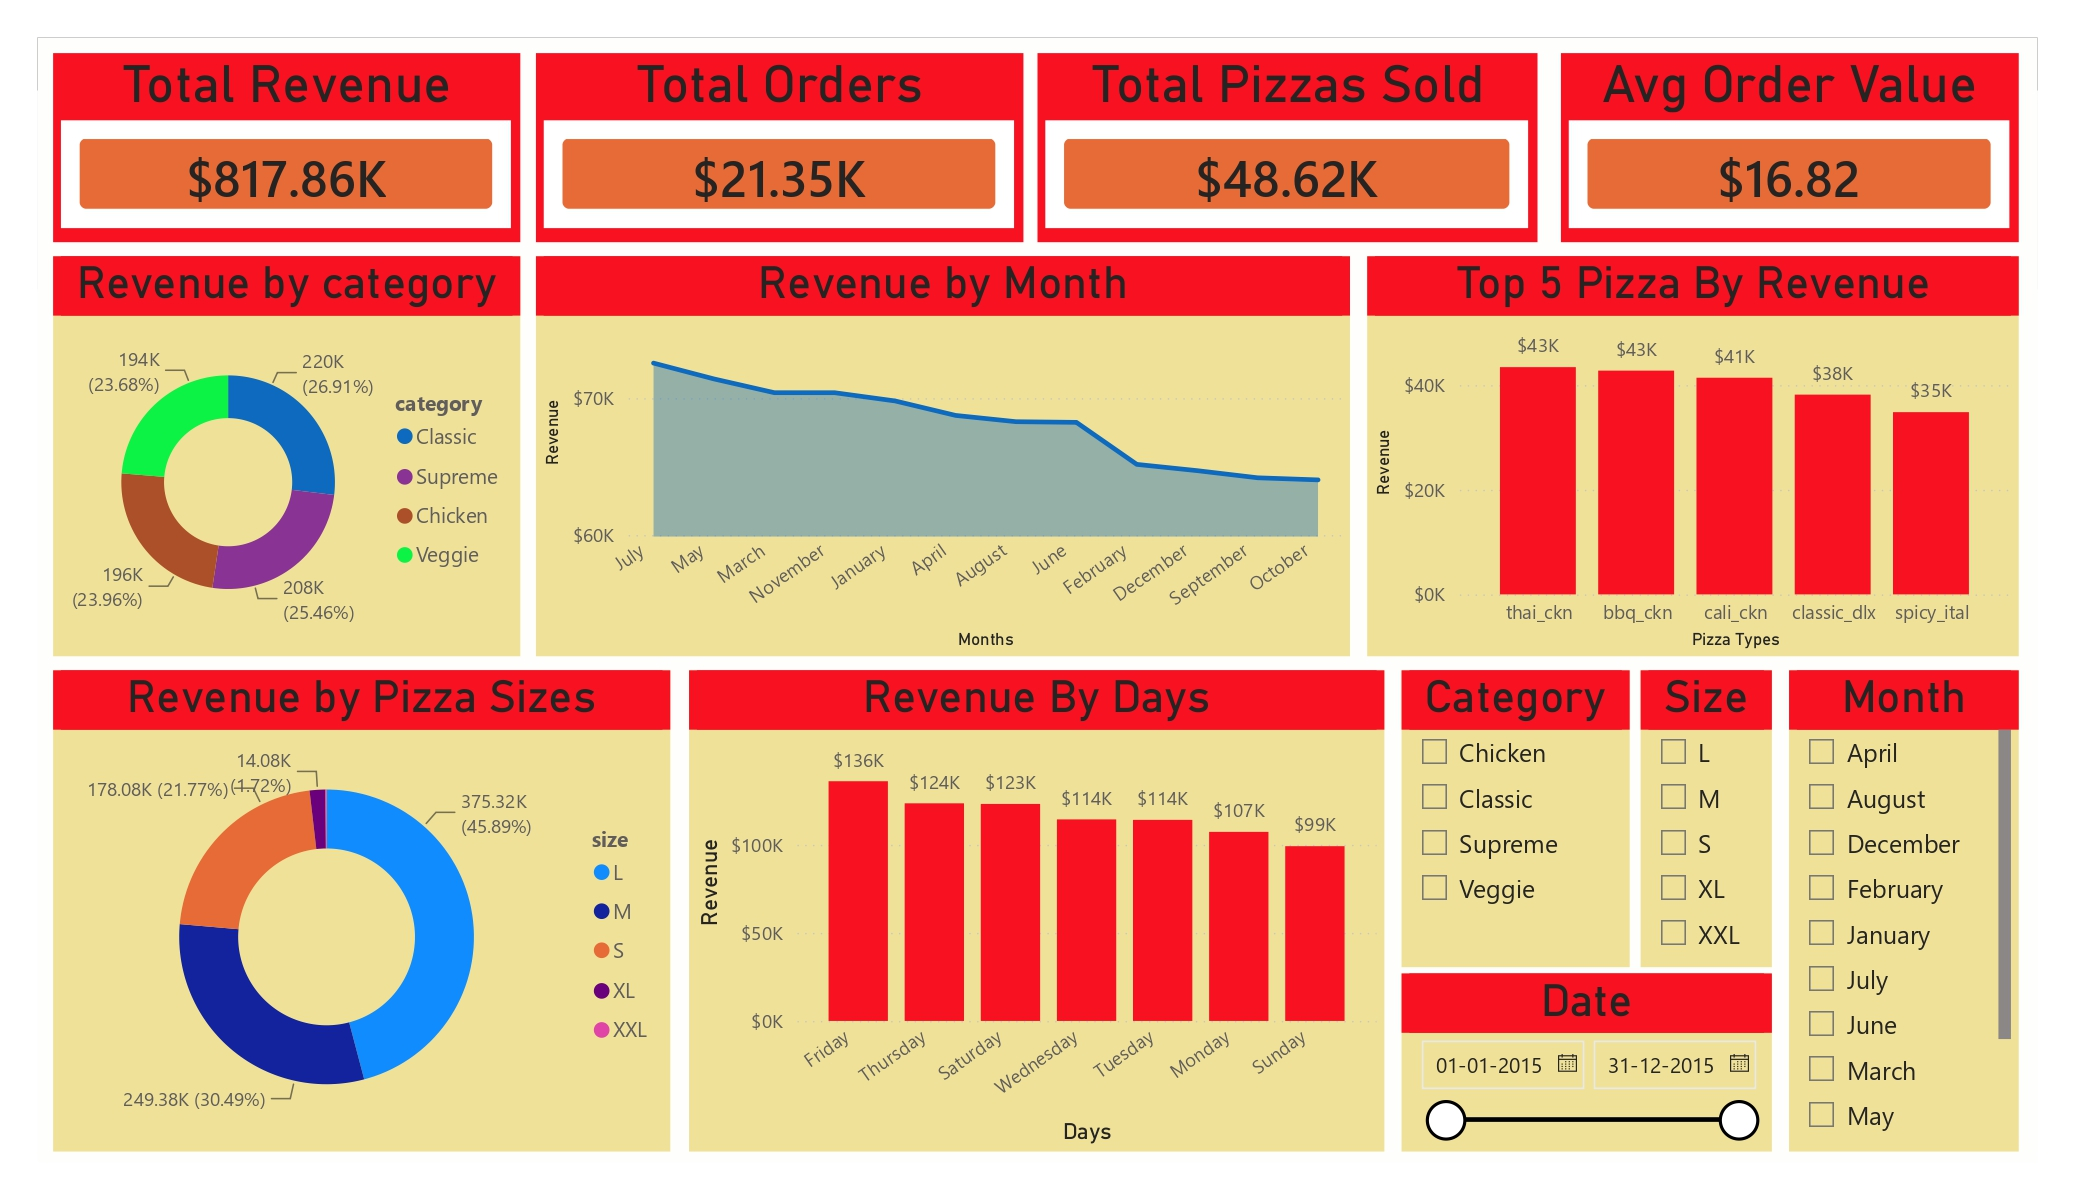

Layout of this report page (visuals, bound fields, positions):
{"tool":"powerbi","page":{"name":"P","canvas":[1280,720],"ordinal":0},"visuals":[{"type":"cardVisual","title":"Total Revenue","fields":{"Data":["Sum(pizza_sales_dashboard_dataset.Revenue)"]},"box":[10.4,10.4,298.7,120.8],"z":0},{"type":"cardVisual","title":"Total Orders","fields":{"Data":["Count(pizza_sales_dashboard_dataset.order_id)"]},"box":[319.5,10.4,311.7,120.8],"z":1000},{"type":"cardVisual","title":"Total Pizzas Sold","fields":{"Data":["CountNonNull(pizza_sales_dashboard_dataset.quantity)"]},"box":[640.3,10.4,319.5,120.8],"z":2000},{"type":"cardVisual","title":"Avg Order Value","fields":{"Data":["Avg(pizza_sales_dashboard_dataset.Revenue)"]},"box":[975.3,10.4,292.2,120.8],"z":3000},{"type":"donutChart","title":"Revenue by category","fields":{"Y":["Sum(pizza_sales_dashboard_dataset.Revenue)"],"Category":["pizza_sales_dashboard_dataset.category"]},"box":[10.4,140.3,298.7,255.8],"z":4000},{"type":"lineChart","title":"Revenue by Month","fields":{"Category":["pizza_sales_dashboard_dataset.Month"],"Y":["Sum(pizza_sales_dashboard_dataset.Revenue)"]},"box":[319.5,140.3,520.8,255.8],"z":5000},{"type":"columnChart","title":"Top 5 Pizza By Revenue","fields":{"Y":["Sum(pizza_sales_dashboard_dataset.Revenue)"],"Category":["pizza_sales_dashboard_dataset.pizza_type_id"]},"box":[850.6,140.3,416.9,255.8],"z":6000},{"type":"donutChart","title":"Revenue by Pizza Sizes","fields":{"Y":["Sum(pizza_sales_dashboard_dataset.Revenue)"],"Category":["pizza_sales_dashboard_dataset.size"]},"box":[10.4,405.2,394.8,307.8],"z":7000},{"type":"columnChart","title":"Revenue By Days","fields":{"Y":["Sum(pizza_sales_dashboard_dataset.Revenue)"],"Category":["pizza_sales_dashboard_dataset.Day"]},"box":[416.9,405.2,445.5,307.8],"z":8000},{"type":"slicer","title":"Size","fields":{"Values":["pizza_sales_dashboard_dataset.size"]},"box":[1026,405.2,84.4,189.6],"z":9000},{"type":"slicer","title":"Month","fields":{"Values":["pizza_sales_dashboard_dataset.Month"]},"box":[1120.8,405.2,146.8,307.8],"z":10000},{"type":"slicer","title":"Category","fields":{"Values":["pizza_sales_dashboard_dataset.category"]},"box":[872.7,405.2,146.8,189.6],"z":11000},{"type":"slicer","title":"Date","fields":{"Values":["pizza_sales_dashboard_dataset.date"]},"box":[872.7,598.7,237.7,114.3],"z":11001}]}

Visuals, with their boxes in screenshot pixels (x1, y1, x2, y2):
"Total Revenue" cardVisual: BBox(65, 48, 525, 235)
"Total Orders" cardVisual: BBox(541, 48, 1022, 235)
"Total Pizzas Sold" cardVisual: BBox(1036, 48, 1529, 235)
"Avg Order Value" cardVisual: BBox(1553, 48, 2003, 235)
"Revenue by category" donutChart: BBox(65, 249, 525, 643)
"Revenue by Month" lineChart: BBox(541, 249, 1344, 643)
"Top 5 Pizza By Revenue" columnChart: BBox(1360, 249, 2003, 643)
"Revenue by Pizza Sizes" donutChart: BBox(65, 657, 673, 1132)
"Revenue By Days" columnChart: BBox(691, 657, 1378, 1132)
"Size" slicer: BBox(1631, 657, 1761, 950)
"Month" slicer: BBox(1777, 657, 2003, 1132)
"Category" slicer: BBox(1394, 657, 1621, 950)
"Date" slicer: BBox(1394, 956, 1761, 1132)
